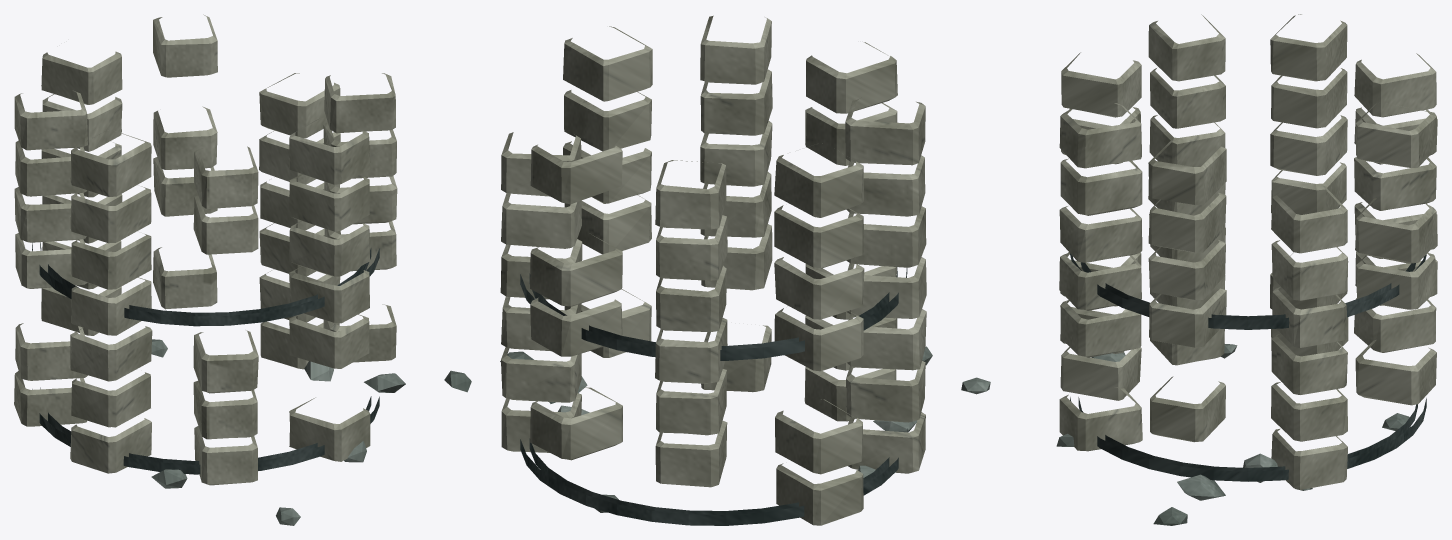
Rendered from 0403_ruined_tower_03.glb.
3 views of the same model, side by side, from view 1: azimuth 30°, elevation 25°; view 2: azimuth 150°, elevation 25°; view 3: azimuth 270°, elevation 25° (orthographic). The views are drawn at different scales.
Visible parts, largest first — view 1: stone_light, stone_dark, stone; view 2: stone_light, stone_dark, stone; view 3: stone_light, stone_dark, stone.
Boxes of the visible parts, x1,y1,x2,y2 form: stone_light: (14,14,397,485); stone_dark: (32,242,379,474); stone: (151,339,471,525); stone_light: (500,15,926,525); stone_dark: (520,267,907,525); stone: (500,346,932,512); stone_light: (1059,14,1437,489); stone_dark: (1070,253,1426,481); stone: (961,344,1410,525).
Size of the model in its own units: 3.67 by 2.93 by 3.84.
Materials: 3 (3 with a texture image).
